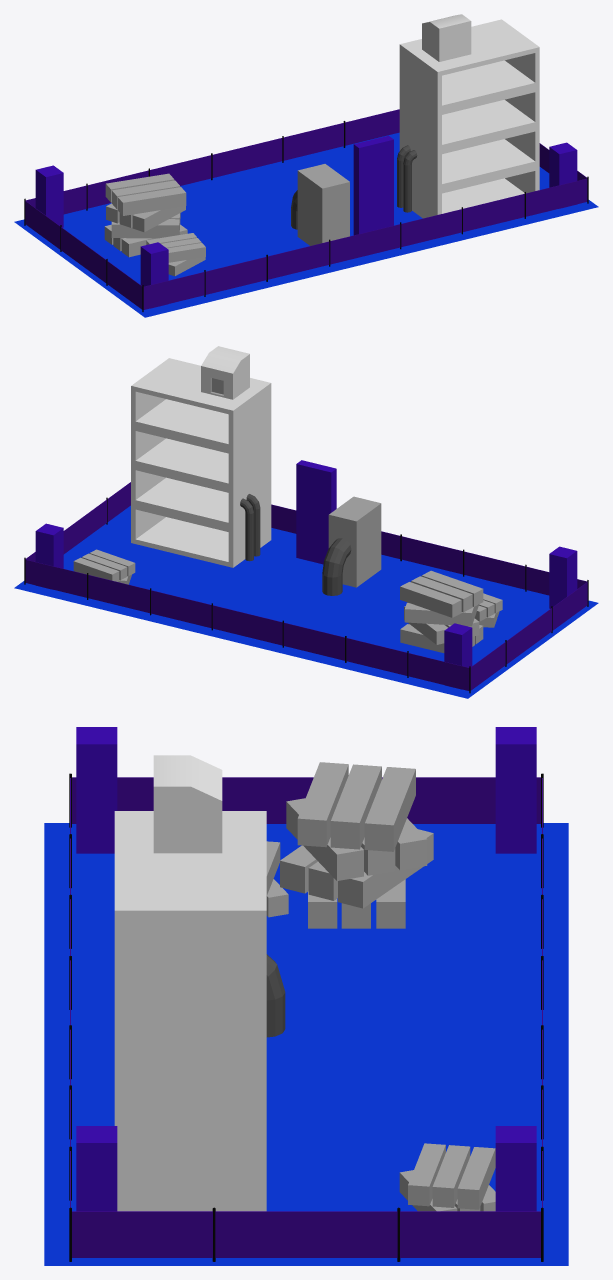
File: 510_blue.fbx
3 views of the same model, one above another, from view 1: azimuth 30°, elevation 25°; view 2: azimuth 150°, elevation 25°; view 3: azimuth 270°, elevation 25° (orthographic). The views are drawn at different scales.
Visible parts, largest first — view 1: pCube229, ten_ght1, pCube228 (×4), pCube227 (×3), pCube233, pCube234, pCube241, pCube260, pCube261, pCube265, pCube256, pCube262 (+16 smaller); view 2: ten_ght1, pCube229, pCube234, pCube233, pCube228 (×3), pCube241, pCube227 (×2), pCube260, pCube262, pCube258, pCube257, pCube259 (+20 smaller); view 3: ten_ght1, pCube229, pCube268, pCube241, pCube225, pCube226, pCube265, pCube264, pCube271, pCube266, pCube267, pCube243 (+17 smaller).
Part boxes in pixels (bbox=[...]): pCube229: bbox=[399, 19, 539, 218]; ten_ght1: bbox=[14, 132, 598, 317]; pCube228 (×4): bbox=[143, 178, 587, 309]; pCube227 (×3): bbox=[205, 194, 524, 294]; pCube233: bbox=[297, 164, 349, 245]; pCube234: bbox=[353, 135, 393, 235]; pCube241: bbox=[422, 14, 471, 61]; pCube260: bbox=[212, 138, 282, 177]; pCube261: bbox=[283, 123, 343, 160]; pCube265: bbox=[35, 165, 63, 227]; pCube256: bbox=[117, 187, 186, 215]; pCube262: bbox=[345, 109, 399, 145]; ten_ght1: bbox=[14, 505, 598, 698]; pCube229: bbox=[131, 358, 271, 567]; pCube234: bbox=[296, 460, 336, 564]; pCube233: bbox=[328, 496, 381, 587]; pCube228 (×3): bbox=[271, 504, 587, 595]; pCube241: bbox=[201, 346, 249, 399]; pCube227 (×2): bbox=[381, 531, 525, 589]; pCube260: bbox=[212, 605, 282, 645]; pCube262: bbox=[88, 575, 149, 613]; pCube258: bbox=[346, 638, 407, 675]; pCube257: bbox=[408, 653, 469, 690]; pCube259: bbox=[283, 622, 344, 660]; ten_ght1: bbox=[44, 823, 568, 1265]; pCube229: bbox=[114, 811, 266, 1211]; pCube268: bbox=[215, 1211, 397, 1257]; pCube241: bbox=[153, 755, 222, 853]; pCube225: bbox=[400, 1211, 540, 1257]; pCube226: bbox=[72, 1211, 212, 1257]; pCube265: bbox=[495, 727, 536, 853]; pCube264: bbox=[76, 727, 117, 853]; pCube271: bbox=[407, 777, 540, 823]; pCube266: bbox=[495, 1126, 536, 1211]; pCube267: bbox=[76, 1126, 117, 1211]; pCube243: bbox=[364, 767, 415, 851].
Bounding box in the file's own units: 10 × 4.01 × 5.
